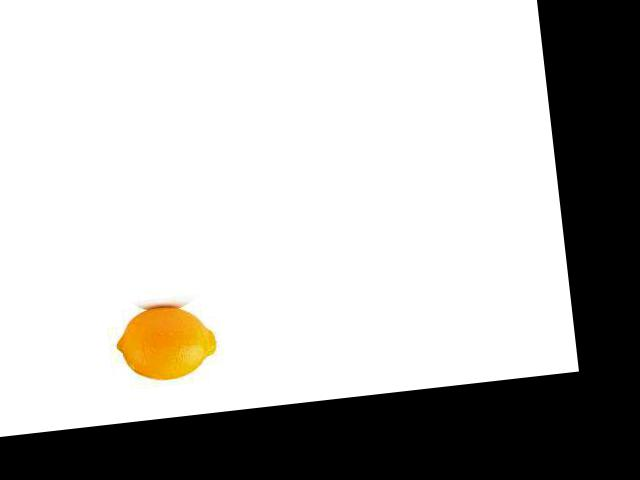lemon: (108, 302, 228, 389)
